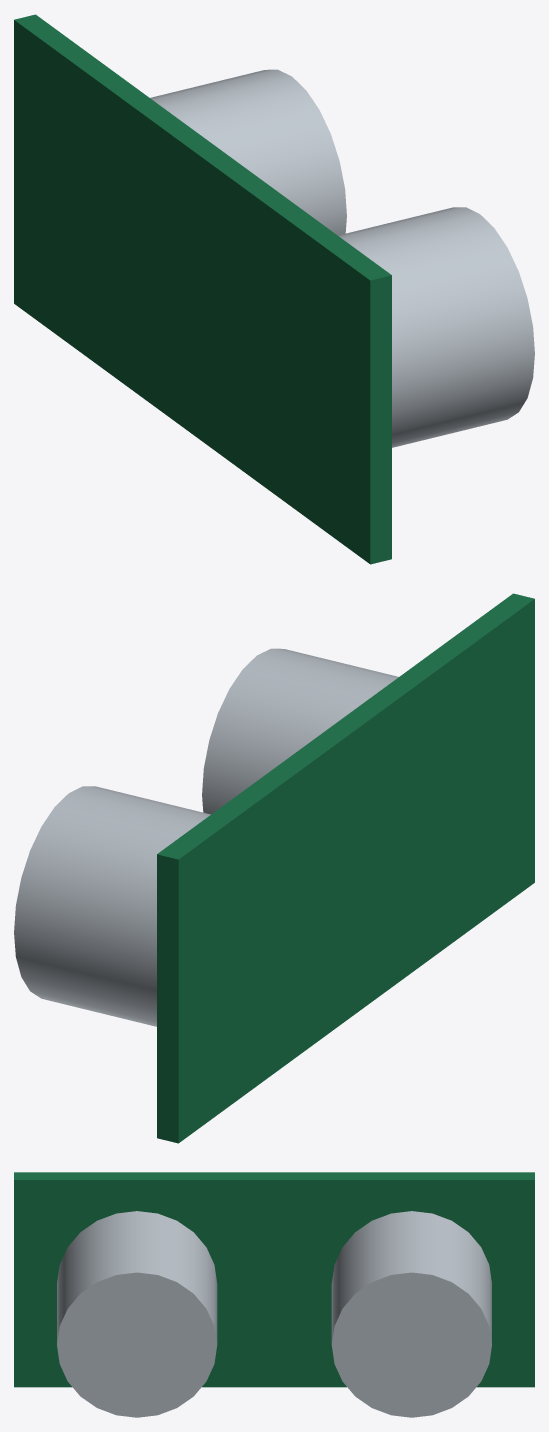
The model's file is ultrasonic.glb.
The picture shows the model from 3 angles, top to bottom: view 1: azimuth 30°, elevation 25°; view 2: azimuth 150°, elevation 25°; view 3: azimuth 270°, elevation 25°; orthographic projection. The views are drawn at different scales.
Parts seen in each view (by area): view 1: ultrasonic_pcb, module_ultrasonic__steel; view 2: ultrasonic_pcb, module_ultrasonic__steel; view 3: ultrasonic_pcb, module_ultrasonic__steel.
Boxes of the visible parts, x1,y1,x2,y2 form: ultrasonic_pcb: [14, 14, 391, 564]; module_ultrasonic__steel: [150, 69, 534, 447]; ultrasonic_pcb: [157, 593, 534, 1143]; module_ultrasonic__steel: [14, 648, 398, 1026]; ultrasonic_pcb: [14, 1172, 534, 1387]; module_ultrasonic__steel: [57, 1211, 491, 1417].
Bounding box in the file's own units: 0.143 × 0.2 × 0.455.
